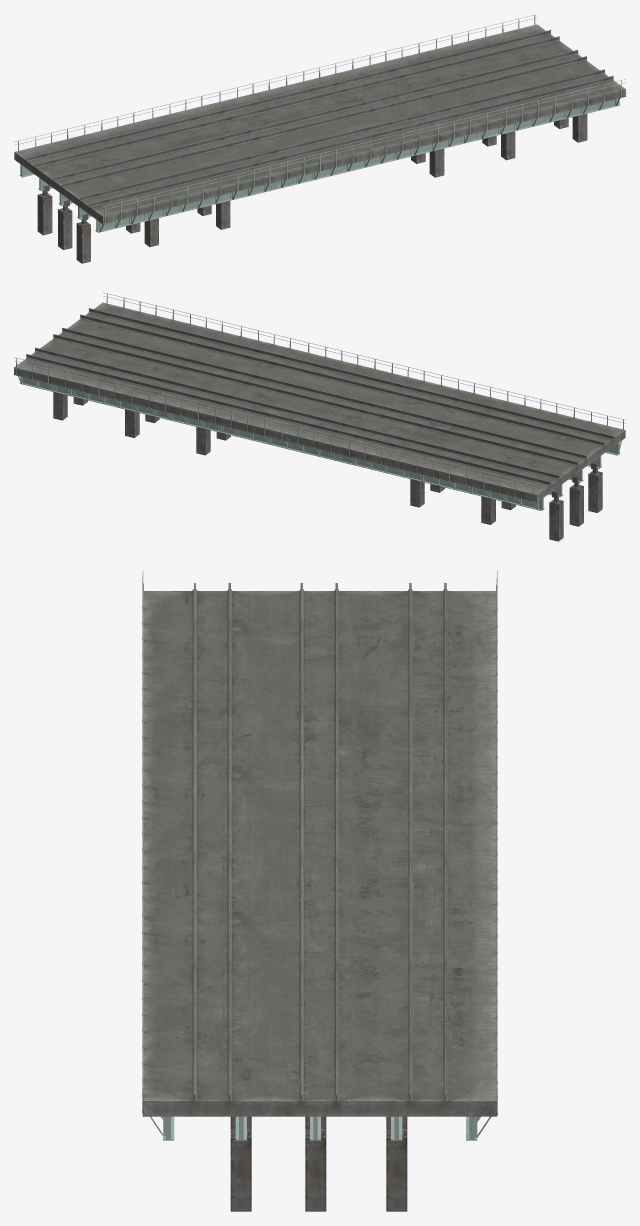
3 views of the same model, one above another, from view 1: azimuth 30°, elevation 25°; view 2: azimuth 150°, elevation 25°; view 3: azimuth 270°, elevation 25° (orthographic). The views are drawn at different scales.
Parts seen in each view (by area): view 1: pCube339Railroad_Bridge39; view 2: pCube339Railroad_Bridge39; view 3: pCube339Railroad_Bridge39.
Boxes of the visible parts, <box> form: pCube339Railroad_Bridge39: <box>14,14,625,263</box>; pCube339Railroad_Bridge39: <box>14,292,625,541</box>; pCube339Railroad_Bridge39: <box>142,570,497,1211</box>.
Bounding box in the file's own units: 0.7278 × 0.0975 × 0.2141.
Materials: 3 (3 with a texture image).
